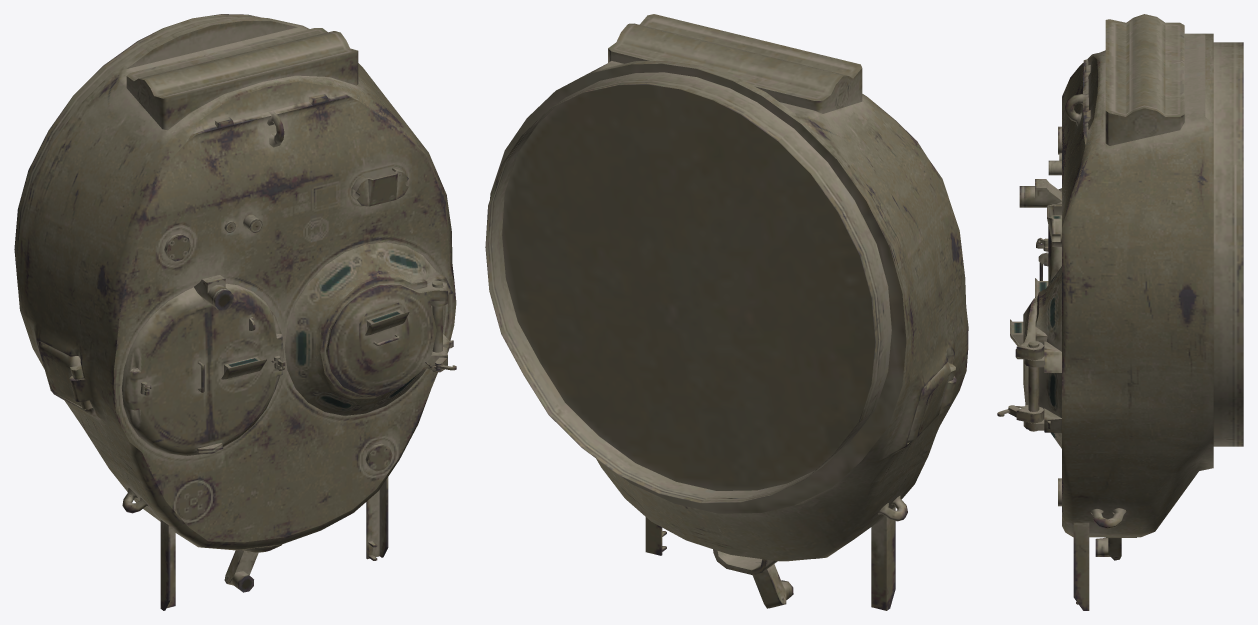
Rendered from Turret_01.glb.
3 views of the same model, side by side, from view 1: azimuth 30°, elevation 25°; view 2: azimuth 150°, elevation 25°; view 3: azimuth 270°, elevation 25° (orthographic). The views are drawn at different scales.
Visible parts, largest first — view 1: set_0_group_0; view 2: set_0_group_0; view 3: set_0_group_0.
Part boxes in pixels (bbox=[...]): set_0_group_0: bbox=[14, 14, 456, 610]; set_0_group_0: bbox=[485, 14, 968, 610]; set_0_group_0: bbox=[997, 14, 1243, 610].
Size of the model in its own units: 2.07 by 2.72 by 1.17.
1 material, 1 textured.
